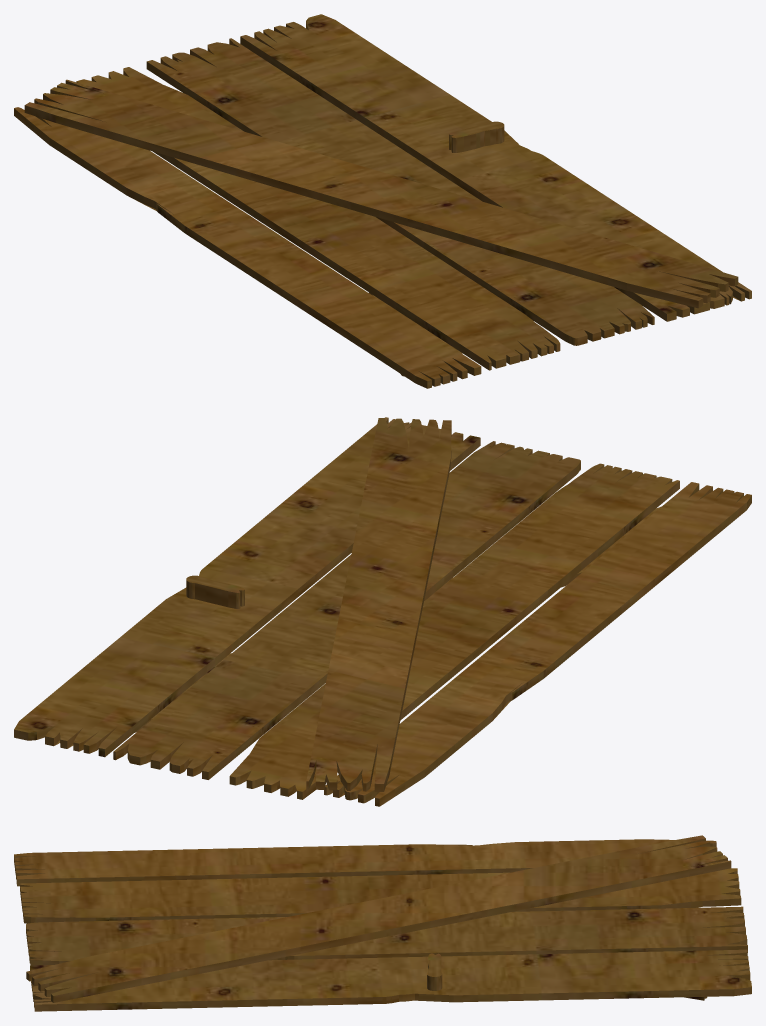
The model's file is door.obj.
3 renders of one model, top to bottom at view 1: azimuth 30°, elevation 25°; view 2: azimuth 150°, elevation 25°; view 3: azimuth 270°, elevation 25°, orthographic. The views are drawn at different scales.
Visible parts, largest first — view 1: Mesh1 Group3 Group2 Group1 Model, Mesh2 Group2 Group1 Model, Mesh3 Group1 Model; view 2: Mesh1 Group3 Group2 Group1 Model, Mesh2 Group2 Group1 Model, Mesh3 Group1 Model; view 3: Mesh1 Group3 Group2 Group1 Model, Mesh2 Group2 Group1 Model, Mesh3 Group1 Model.
Part boxes in pixels (x1,y1,x2,y2): Mesh1 Group3 Group2 Group1 Model: (14, 14, 751, 388); Mesh2 Group2 Group1 Model: (24, 79, 738, 308); Mesh3 Group1 Model: (449, 121, 504, 152); Mesh1 Group3 Group2 Group1 Model: (14, 417, 751, 806); Mesh2 Group2 Group1 Model: (306, 418, 451, 791); Mesh3 Group1 Model: (186, 575, 244, 608); Mesh1 Group3 Group2 Group1 Model: (14, 839, 751, 1011); Mesh2 Group2 Group1 Model: (26, 835, 731, 1002); Mesh3 Group1 Model: (427, 953, 442, 990).
Bounding box in the file's own units: 50.65 × 4 × 95.53.
Materials: 1 (1 with a texture image).
